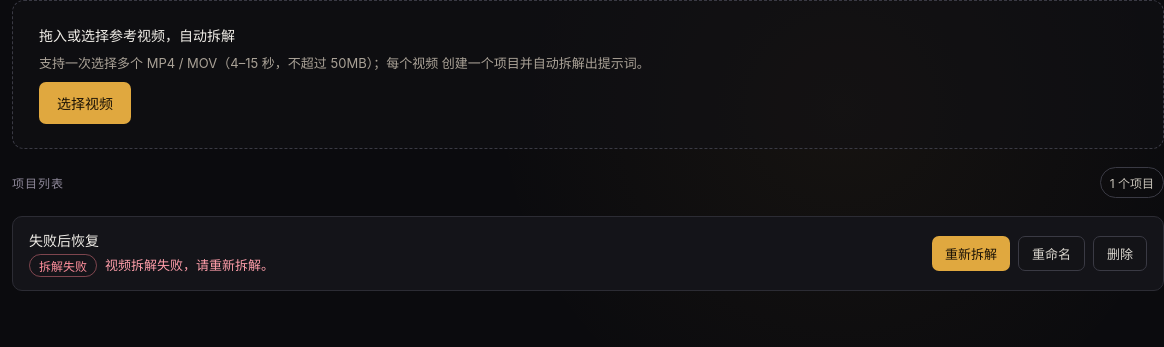
Test: ProjectsPage analysis recovery › shows a failed durable analysis and lets the user enqueue a retry
This screenshot has width=1164, height=347.
Expected: the text "视频拆解失败，请重新拆解。" is shown, [105,256,274,274]
Click the button "重新拆解" at point(971, 253), box [932,236,1010,271]
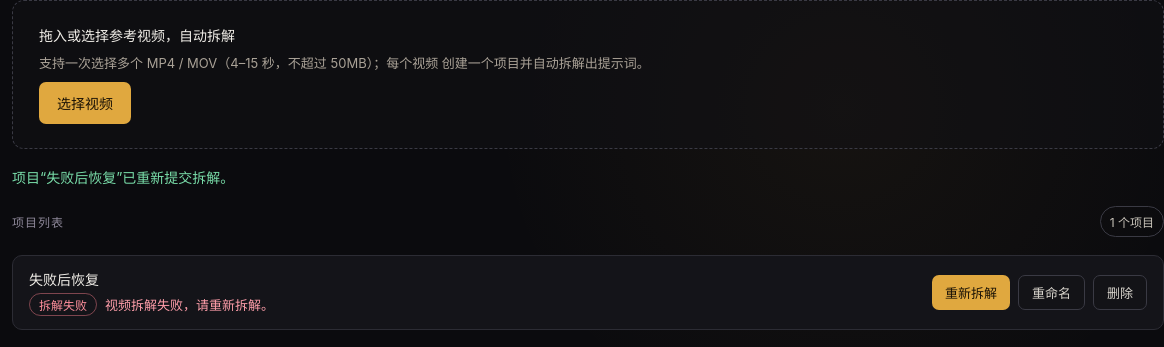
Result: the text "项目“失败后恢复”已重新提交拆解。" is shown at [12,169,234,186]
